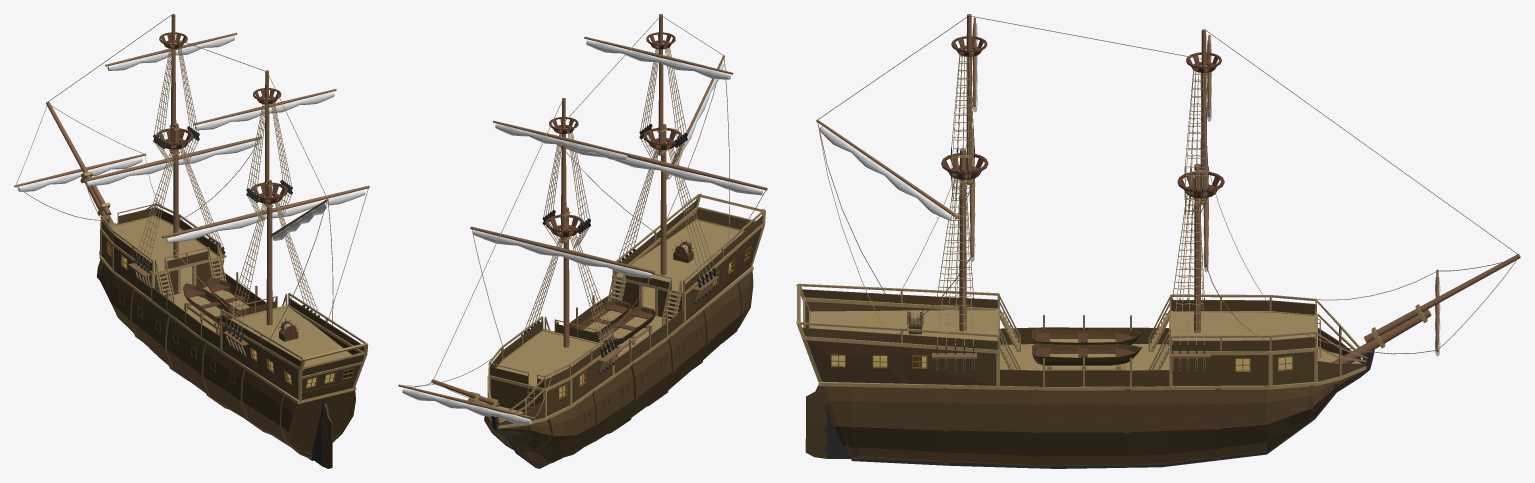
Rendered from New ship 4.fbx.
The picture shows the model from 3 angles, left to right: view 1: azimuth 30°, elevation 25°; view 2: azimuth 150°, elevation 25°; view 3: azimuth 270°, elevation 25°; orthographic projection. The views are drawn at different scales.
Parts seen in each view (by area): view 1: Sails.003, Sails, Sails.004, Rigging.005, Sails.005, Sails.001, Rigging.004, Rigging.018, Rigging.002, Rigging.003, Rigging.019, Rigging.014 (+2 smaller); view 2: Sails, Sails.003, Sails.004, Sails.001, Sails.005, Rigging.005, Rigging.004, Rigging.018, Rigging.002, Rigging.019, Rigging.003, Rigging.014 (+2 smaller); view 3: Rigging.018, Sails.002, Rigging.019, Rigging.015, Rigging.014, Cube.333.
Part boxes in pixels (left/top/right/bottom): Sails.003: left=166, top=190, right=365, bottom=242; Sails: left=86, top=140, right=258, bottom=186; Sails.004: left=195, top=92, right=334, bottom=130; Rigging.005: left=225, top=203, right=267, bottom=334; Sails.005: left=107, top=35, right=234, bottom=70; Sails.001: left=18, top=157, right=142, bottom=191; Rigging.004: left=135, top=145, right=177, bottom=265; Rigging.018: left=275, top=202, right=319, bottom=315; Rigging.002: left=154, top=48, right=174, bottom=141; Rigging.003: left=247, top=104, right=267, bottom=195; Rigging.019: left=180, top=148, right=223, bottom=247; Rigging.014: left=271, top=103, right=292, bottom=186; Sails: left=473, top=230, right=652, bottom=278; Sails.003: left=556, top=144, right=763, bottom=195; Sails.004: left=586, top=40, right=730, bottom=79; Sails.001: left=402, top=388, right=531, bottom=424; Sails.005: left=495, top=123, right=627, bottom=160; Rigging.005: left=668, top=148, right=715, bottom=280; Rigging.004: left=570, top=228, right=615, bottom=349; Rigging.018: left=619, top=145, right=658, bottom=257; Rigging.002: left=568, top=132, right=590, bottom=226; Rigging.019: left=525, top=236, right=562, bottom=328; Rigging.003: left=665, top=47, right=686, bottom=139; Rigging.014: left=640, top=43, right=658, bottom=130; Rigging.018: left=937, top=178, right=973, bottom=346; Sails.002: left=819, top=126, right=952, bottom=220; Rigging.019: left=1172, top=194, right=1204, bottom=344; Rigging.015: left=1185, top=70, right=1207, bottom=188; Rigging.014: left=951, top=55, right=974, bottom=170; Cube.333: left=805, top=418, right=826, bottom=458.
Bounding box in the file's own units: 1582 × 2646 × 3836.
